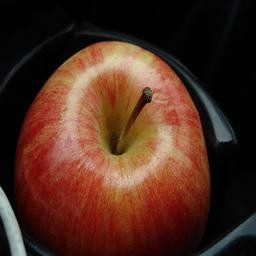apple: (13, 37, 215, 248)
